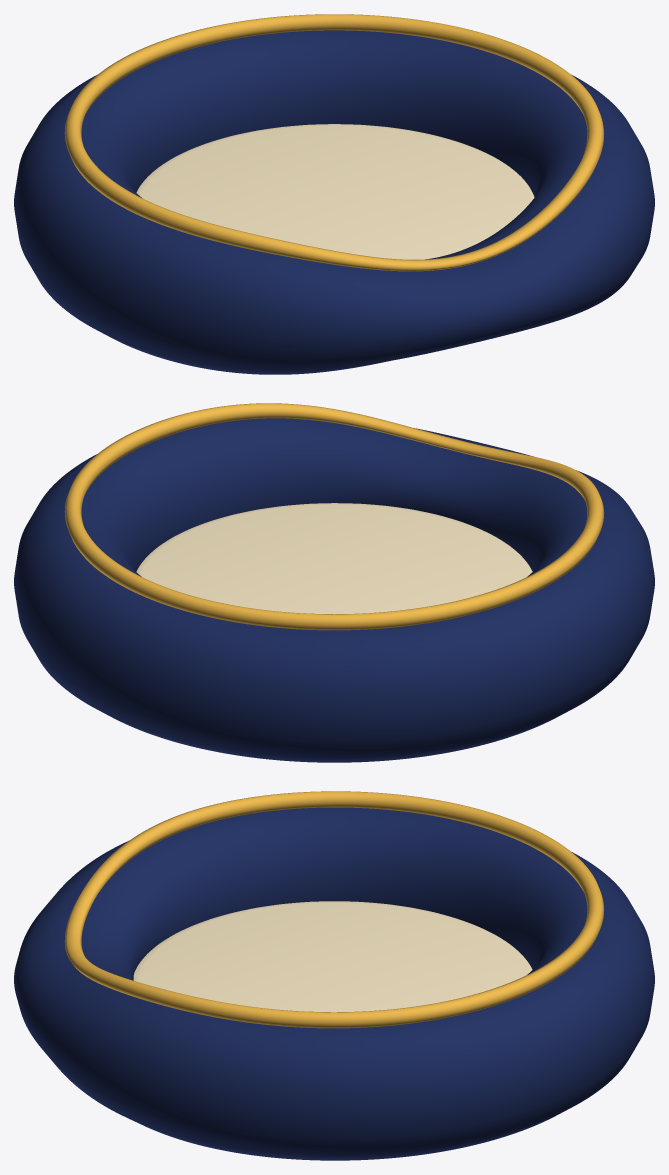
File: PetBed.fbx
The picture shows the model from 3 angles, top to bottom: view 1: azimuth 30°, elevation 25°; view 2: azimuth 150°, elevation 25°; view 3: azimuth 270°, elevation 25°; orthographic projection.
Parts seen in each view (by area): view 1: PetBed; view 2: PetBed; view 3: PetBed.
Boxes of the visible parts, box(x1,y1,x2,y2) form: PetBed: box(14, 14, 654, 374); PetBed: box(14, 403, 654, 762); PetBed: box(14, 791, 654, 1160).
Size of the model in its own units: 98.05 by 24.08 by 98.05.
